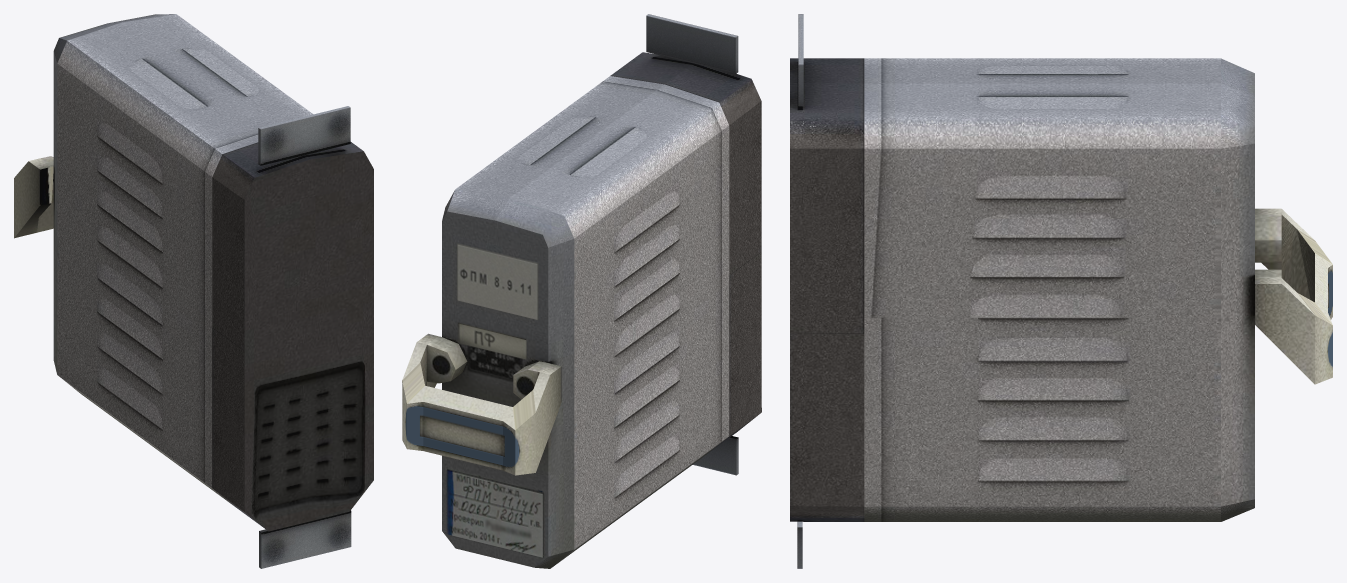
Rendered from prodolg_ru4.FBX.
3 renders of one model, left to right at view 1: azimuth 30°, elevation 25°; view 2: azimuth 150°, elevation 25°; view 3: azimuth 270°, elevation 25°, orthographic. The views are drawn at different scales.
Visible parts, largest first — view 1: cupboard_ABT124; view 2: cupboard_ABT124; view 3: cupboard_ABT124.
Boxes of the visible parts, x1,y1,x2,y2 form: cupboard_ABT124: [14, 14, 373, 568]; cupboard_ABT124: [402, 14, 761, 568]; cupboard_ABT124: [790, 14, 1332, 568].
Size of the model in its own units: 3.62 by 11.34 by 11.06.
1 material, 1 textured.
